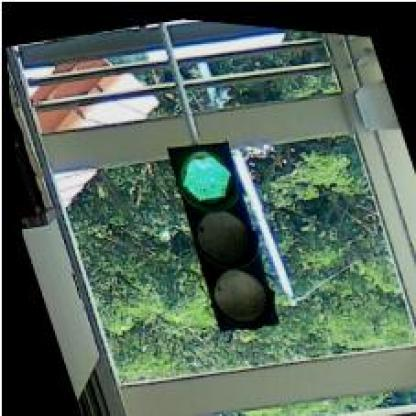green: (157, 129, 283, 333)
